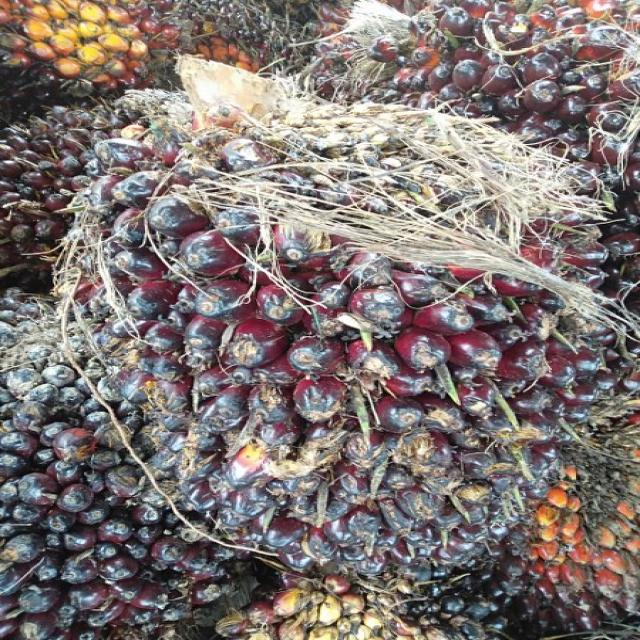fraksi 1: (73, 90, 610, 555)
